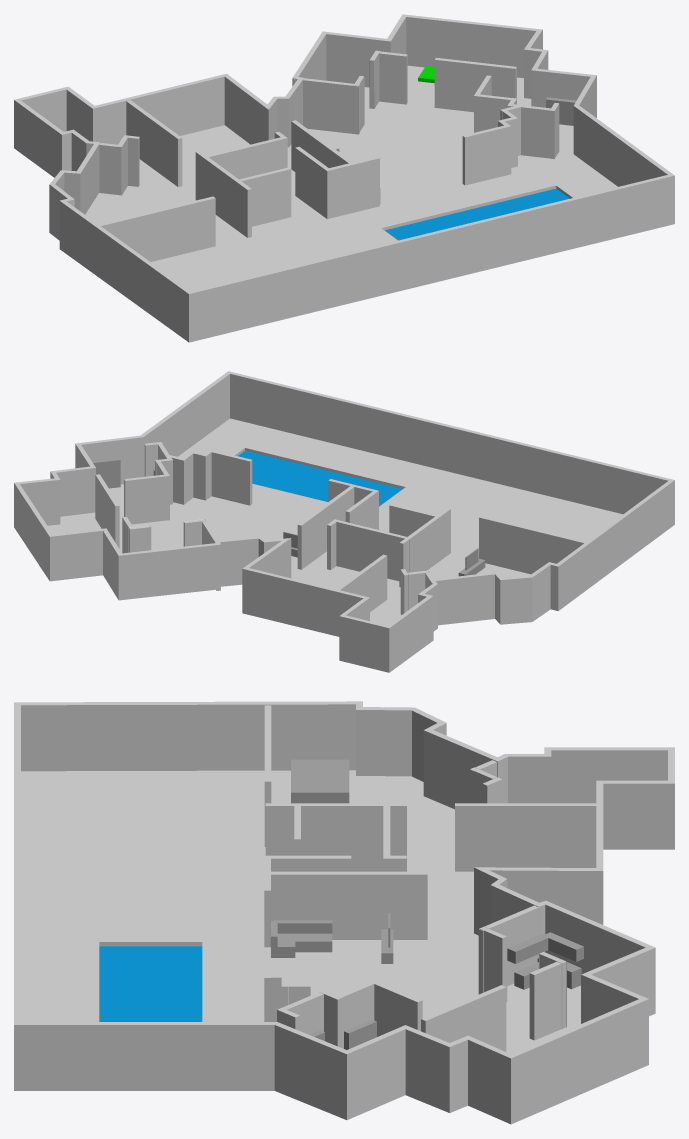
File: Villa_Proxy_01.fbx
The picture shows the model from 3 angles, top to bottom: view 1: azimuth 30°, elevation 25°; view 2: azimuth 150°, elevation 25°; view 3: azimuth 270°, elevation 25°; orthographic projection. The views are drawn at different scales.
Visible parts, largest first — view 1: polySurface4, pCube21, pCube56, pCube31, pCube33, pCube22, pCube25, pPlane1, pCube50, pCube18, pCube29, pCube19 (+19 smaller); view 2: polySurface4, pCube33, pPlane1, pCube29, pCube22, pCube8, pCube15, pCube1, pCube25, pCube7, pCube35, pCube20 (+8 smaller); view 3: polySurface4, pCube1, pCube38, pPlane1, pCube36, pCube7, pCube57, pCube31, pCube8, pCube6, pCube54, pCube37 (+13 smaller).
Part boxes in pixels (x1,y1,x2,y2): polySurface4: (14, 14, 674, 342); pCube21: (99, 196, 215, 261); pCube56: (434, 57, 516, 112); pCube31: (294, 78, 359, 134); pCube33: (99, 196, 215, 261); pCube22: (196, 151, 251, 237); pCube25: (126, 100, 182, 186); pPlane1: (385, 188, 569, 240); pCube50: (462, 124, 511, 185); pCube18: (328, 156, 379, 217); pCube29: (201, 137, 283, 198); pCube19: (236, 167, 290, 226); polySurface4: (14, 371, 674, 672); pCube33: (479, 516, 585, 574); pPlane1: (238, 450, 402, 506); pCube29: (336, 520, 410, 581); pCube22: (399, 509, 450, 586); pCube8: (124, 474, 169, 524); pCube15: (208, 449, 251, 505); pCube1: (298, 487, 354, 569); pCube25: (336, 555, 386, 611); pCube7: (95, 474, 119, 548); pCube35: (389, 504, 440, 536); pCube20: (336, 521, 411, 580); polySurface4: (14, 701, 674, 1124); pCube1: (271, 872, 427, 939); pCube38: (455, 803, 596, 871); pPlane1: (99, 946, 202, 1021); pCube36: (265, 803, 406, 871); pCube7: (422, 986, 505, 1051); pCube57: (291, 759, 349, 803); pCube31: (478, 905, 541, 994); pCube8: (370, 980, 422, 1036); pCube6: (530, 963, 561, 1039); pCube54: (332, 982, 374, 1048); pCube37: (481, 927, 507, 1002).
Size of the model in its own units: 60.4 by 7.75 by 47.25.
